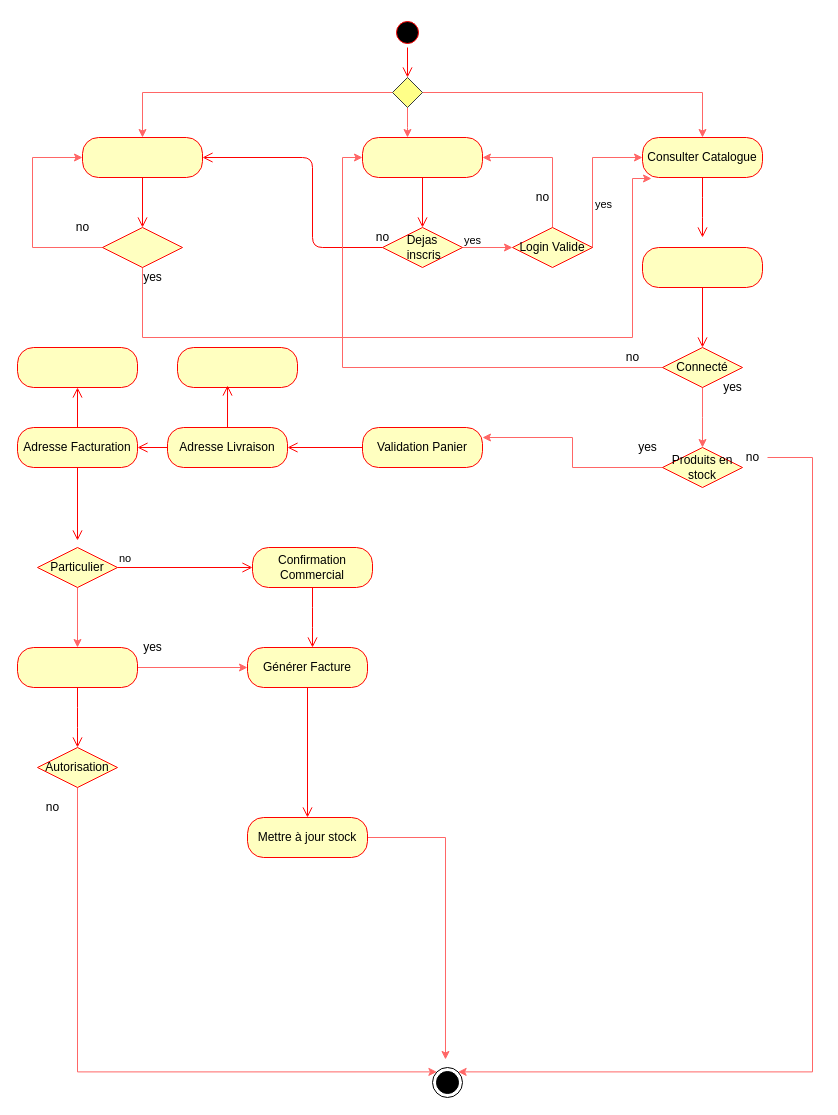
The diagram is 838 pixels wide and 1115 high, and some of its shapes have lost their labels. Each missing label, with the centre of its shape:
Ajouter un produit au panier: (x=702, y=267)
Connexion: (x=422, y=157)
Création Bon Commande: (x=77, y=367)
Création Bon Livraison: (x=237, y=367)
Inscription: (x=142, y=157)
Inscription Valide: (x=142, y=247)
Paiement en Ligne: (x=77, y=667)
